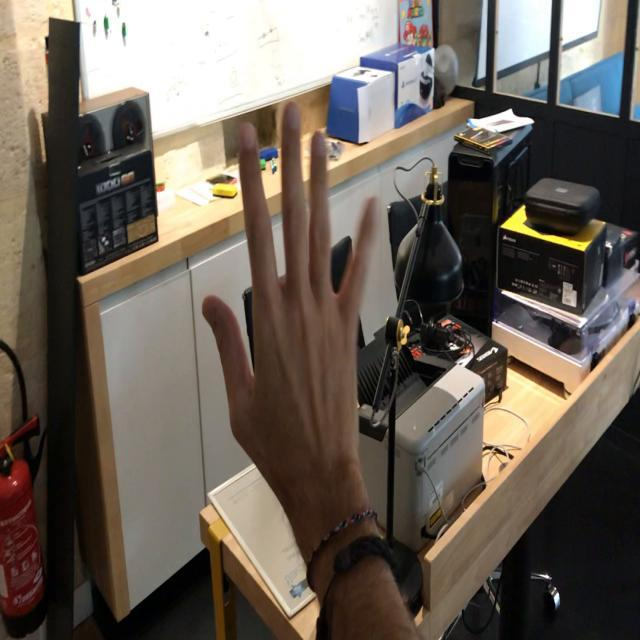no-gloves: (201, 95, 380, 495)
